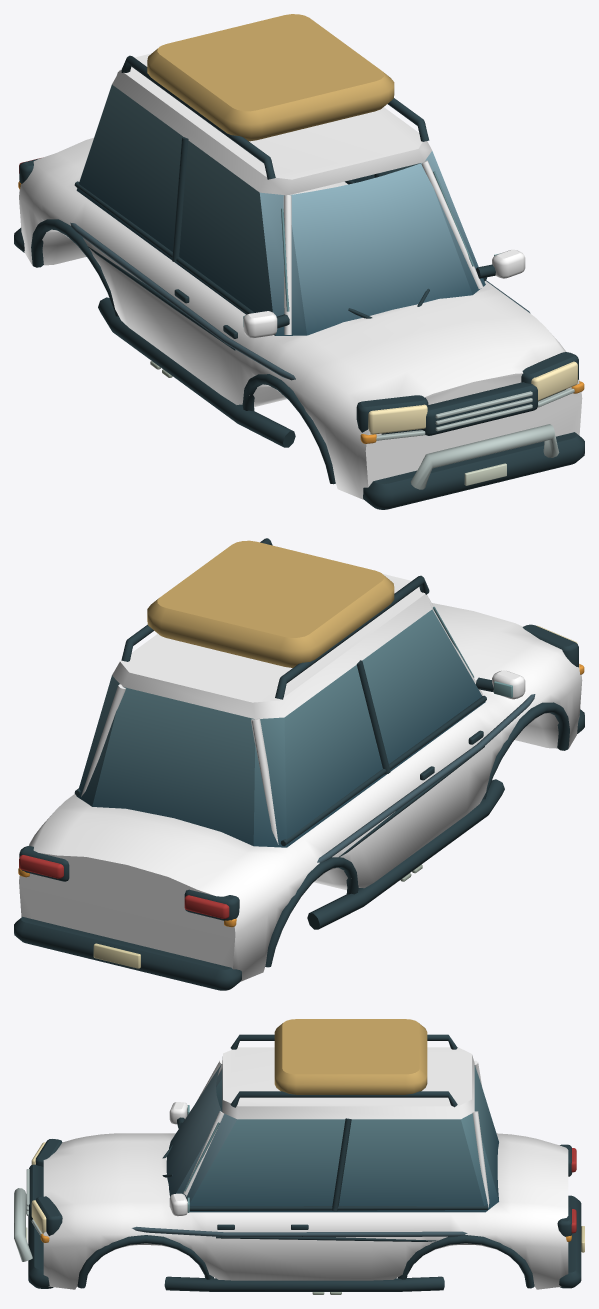
Rendered from ridgeback.glb.
3 renders of one model, top to bottom at view 1: azimuth 30°, elevation 25°; view 2: azimuth 150°, elevation 25°; view 3: azimuth 270°, elevation 25°, orthographic. The views are drawn at different scales.
Visible parts, largest first — view 1: Chassis, Headlamps; view 2: Chassis, BrakeLamps; view 3: Chassis, Headlamps.
Part boxes in pixels (bbox=[...]): Chassis: bbox=[14, 14, 584, 509]; Headlamps: bbox=[368, 361, 577, 434]; Chassis: bbox=[14, 538, 584, 990]; BrakeLamps: bbox=[19, 855, 229, 918]; Chassis: bbox=[14, 1019, 584, 1294]; Headlamps: bbox=[31, 1142, 46, 1234].
Size of the model in its own units: 1.94 by 1.81 by 4.57.
